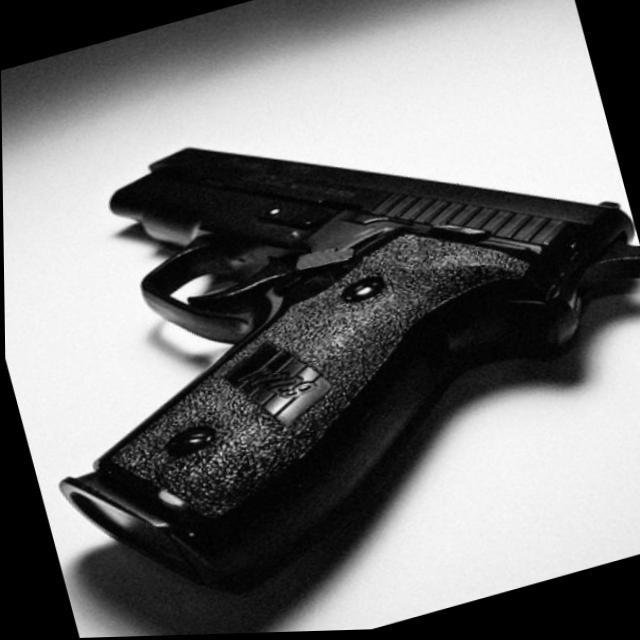weapon: (1, 34, 640, 628)
